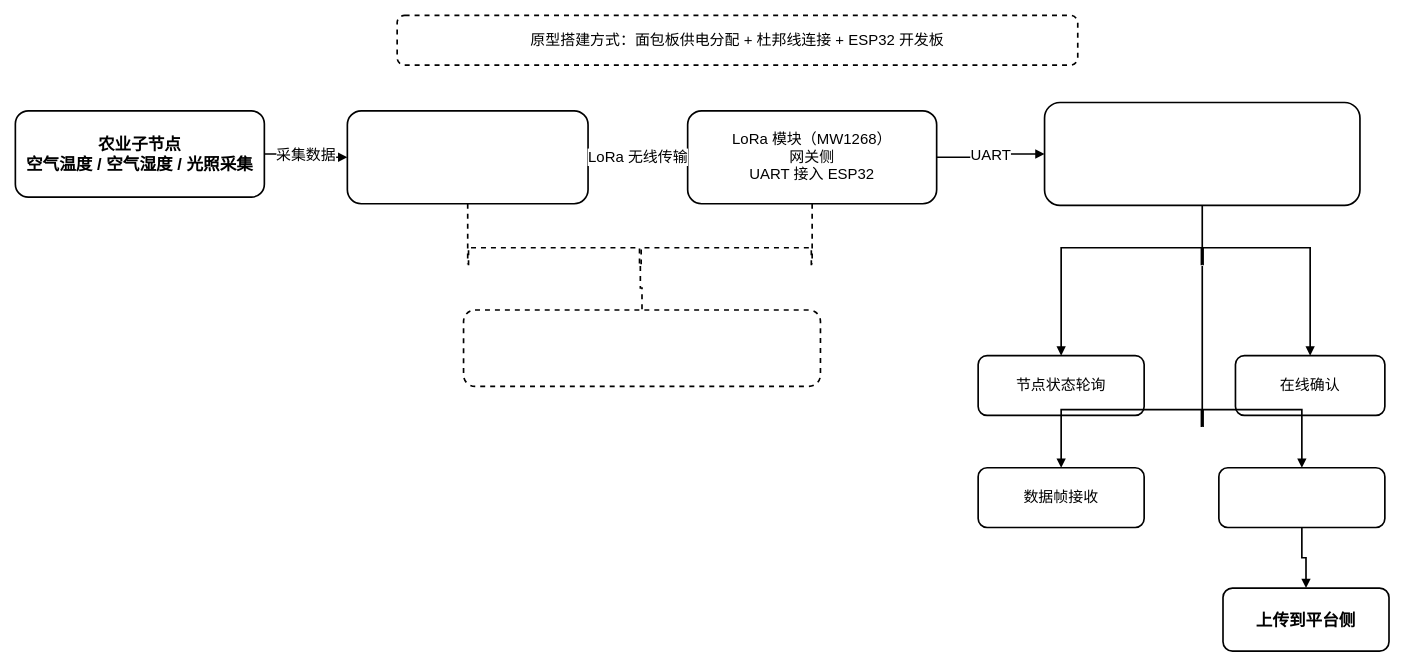
Some shapes in this 1404 by 666 pixel diagram are drawn without their labels. Each missing label, with the centre of its shape:
ESP32 智能农业助手 查询命令发送 / 数据接收 / 校验解析: point 1201,153
LoRa 模块（MW1268） 子节点侧 无线发送 / 状态响应: point 467,157
校验与协议解析: point 1301,497
面包板原型连接环境 供电分配 / 引脚连接 / 接口调整: point 641,348
